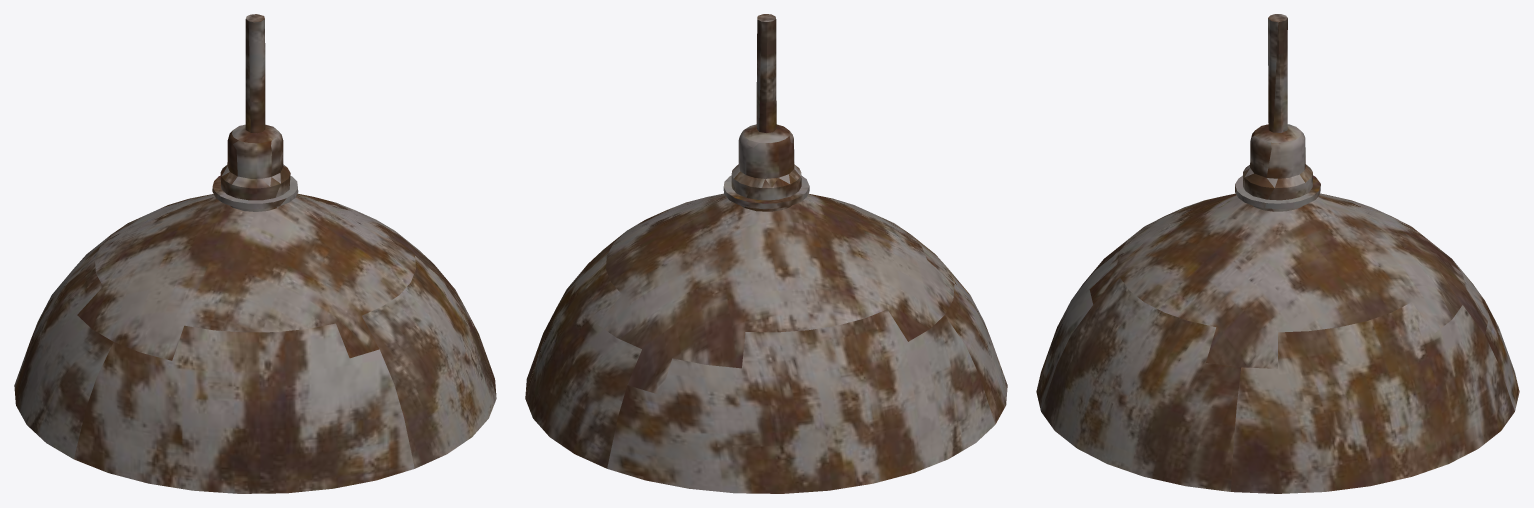
The model's file is lamp.glb.
3 renders of one model, left to right at view 1: azimuth 30°, elevation 25°; view 2: azimuth 150°, elevation 25°; view 3: azimuth 270°, elevation 25°, orthographic.
Parts seen in each view (by area): view 1: Cylinder; view 2: Cylinder; view 3: Cylinder.
Boxes of the visible parts, x1=… form: Cylinder: x1=14, y1=14, x2=496, y2=493; Cylinder: x1=525, y1=14, x2=1007, y2=493; Cylinder: x1=1036, y1=14, x2=1519, y2=493.
Bounding box in the file's own units: 8.49 × 7.25 × 8.49.
Materials: 1 (1 with a texture image).
